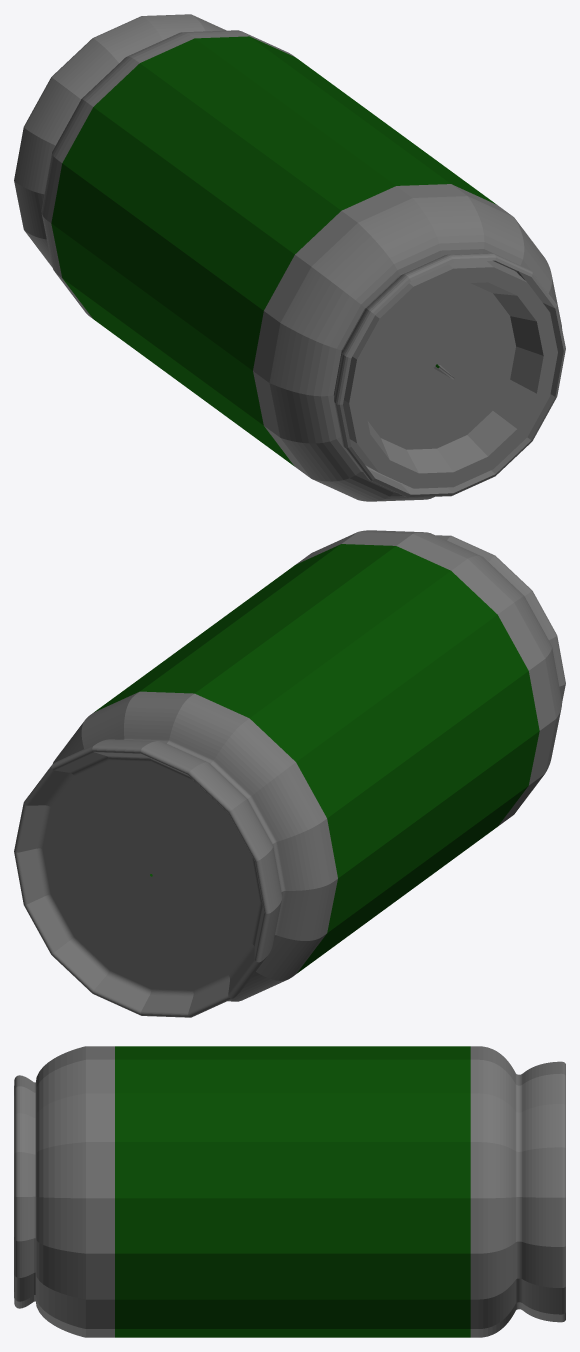
The model's file is beer.fbx.
3 views of the same model, one above another, from view 1: azimuth 30°, elevation 25°; view 2: azimuth 150°, elevation 25°; view 3: azimuth 270°, elevation 25° (orthographic). The views are drawn at different scales.
Parts seen in each view (by area): view 1: Curve; view 2: Curve; view 3: Curve.
Boxes of the visible parts, x1,y1,x2,y2 form: Curve: [14, 14, 565, 501]; Curve: [14, 530, 565, 1017]; Curve: [14, 1046, 565, 1337].
Bounding box in the file's own units: 308 × 308 × 582.
